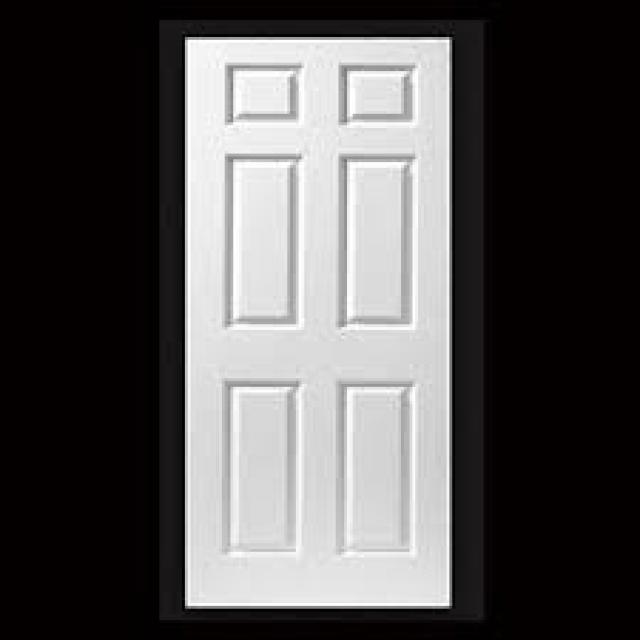door: (182, 32, 455, 610)
